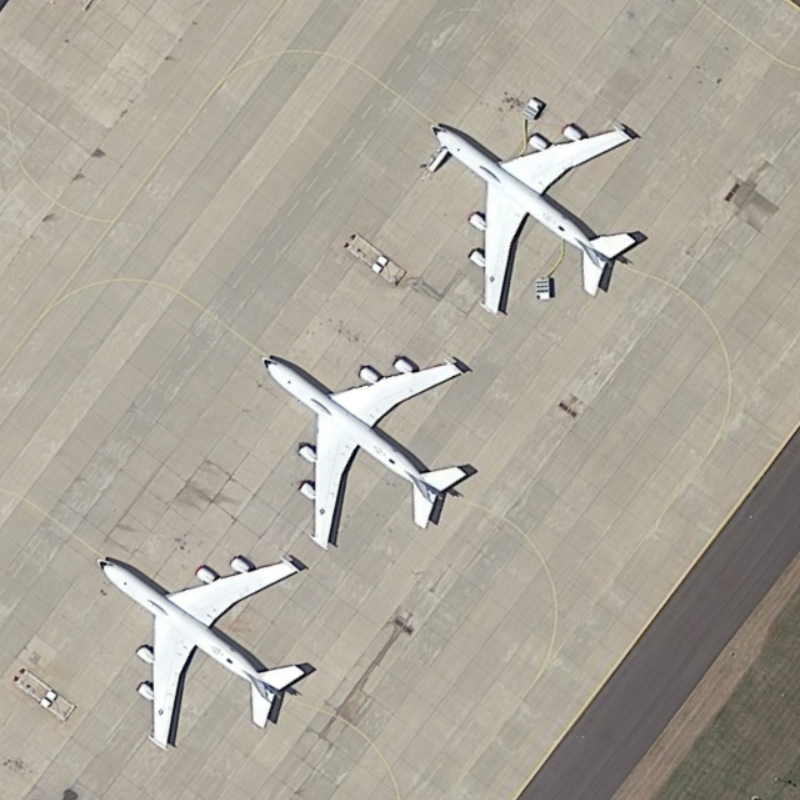A11: (93, 537, 325, 759), (424, 107, 656, 319), (257, 339, 484, 553)
